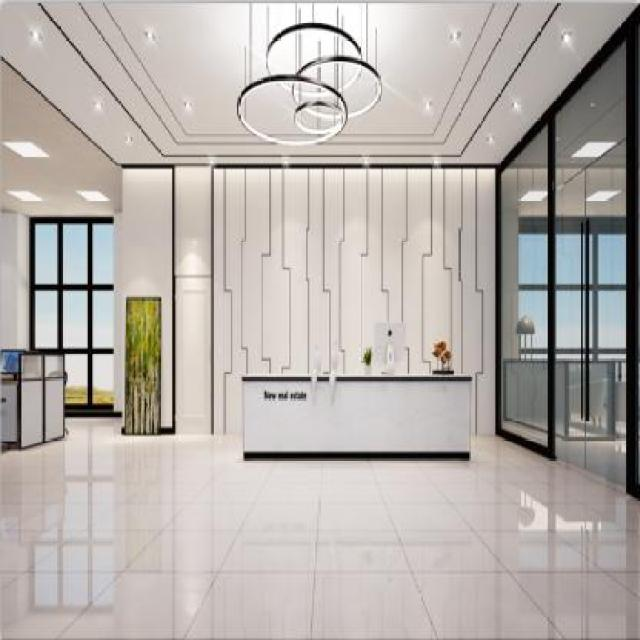frontdesk: (238, 352, 477, 473)
